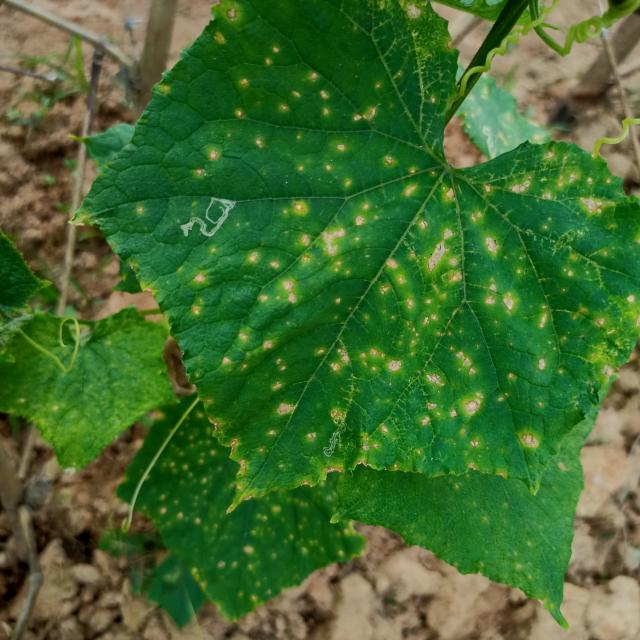disease_cucumber: (132, 29, 612, 480)
